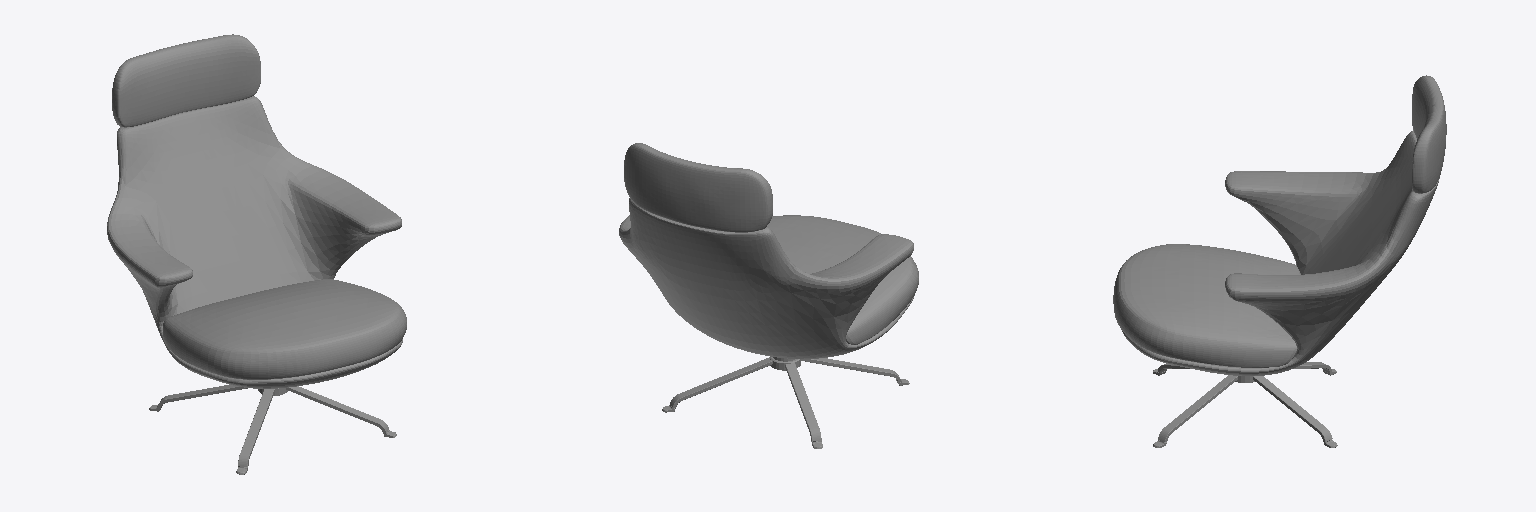
File: Armchair01.obj
3 renders of one model, left to right at view 1: azimuth 30°, elevation 25°; view 2: azimuth 150°, elevation 25°; view 3: azimuth 270°, elevation 25°, orthographic.
Visible parts, largest first — view 1: obj_02, obj_01, obj_03, obj_04; view 2: obj_02, obj_03, obj_01, obj_04; view 3: obj_02, obj_01, obj_03, obj_04.
Part boxes in pixels (x1,y1,x2,y2): obj_02: (107,96,402,388); obj_01: (163,279,406,379); obj_03: (112,34,260,127); obj_04: (149,385,396,474); obj_02: (619,198,914,358); obj_03: (624,143,772,232); obj_01: (767,215,918,344); obj_04: (662,357,909,448); obj_02: (1121,130,1439,375); obj_01: (1113,244,1300,367); obj_03: (1412,75,1446,193); obj_04: (1153,362,1337,447).
Size of the model in its own units: 35.22 by 41.74 by 41.02.